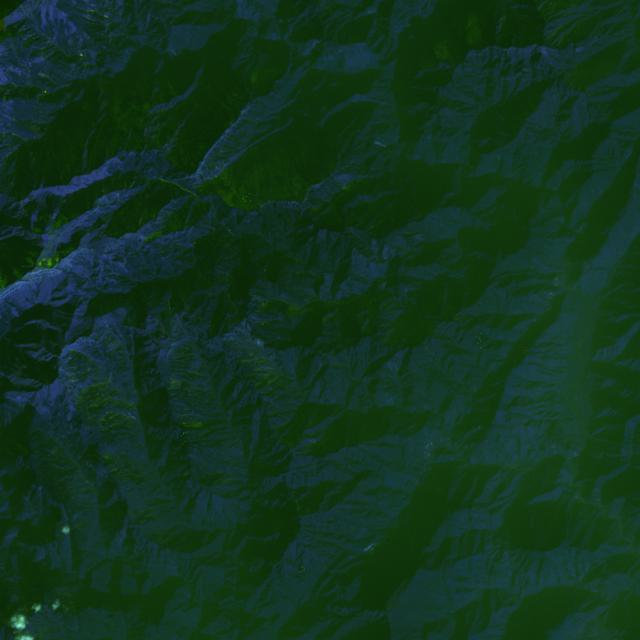landslides: (112, 78, 129, 132), (21, 277, 35, 300), (79, 380, 108, 390), (37, 268, 46, 297), (261, 373, 281, 386), (115, 410, 136, 422), (299, 72, 315, 86), (99, 194, 113, 210), (439, 221, 452, 238), (221, 476, 243, 484), (39, 73, 55, 84), (114, 473, 139, 480), (243, 356, 260, 365), (254, 365, 275, 372), (533, 155, 545, 167), (341, 175, 354, 186), (421, 16, 432, 29), (252, 297, 275, 303), (591, 188, 599, 205), (171, 336, 186, 345), (88, 194, 96, 210), (116, 193, 125, 207), (47, 49, 58, 60), (59, 368, 74, 376), (87, 372, 103, 379), (400, 114, 413, 122), (227, 192, 235, 205), (130, 177, 140, 187)
